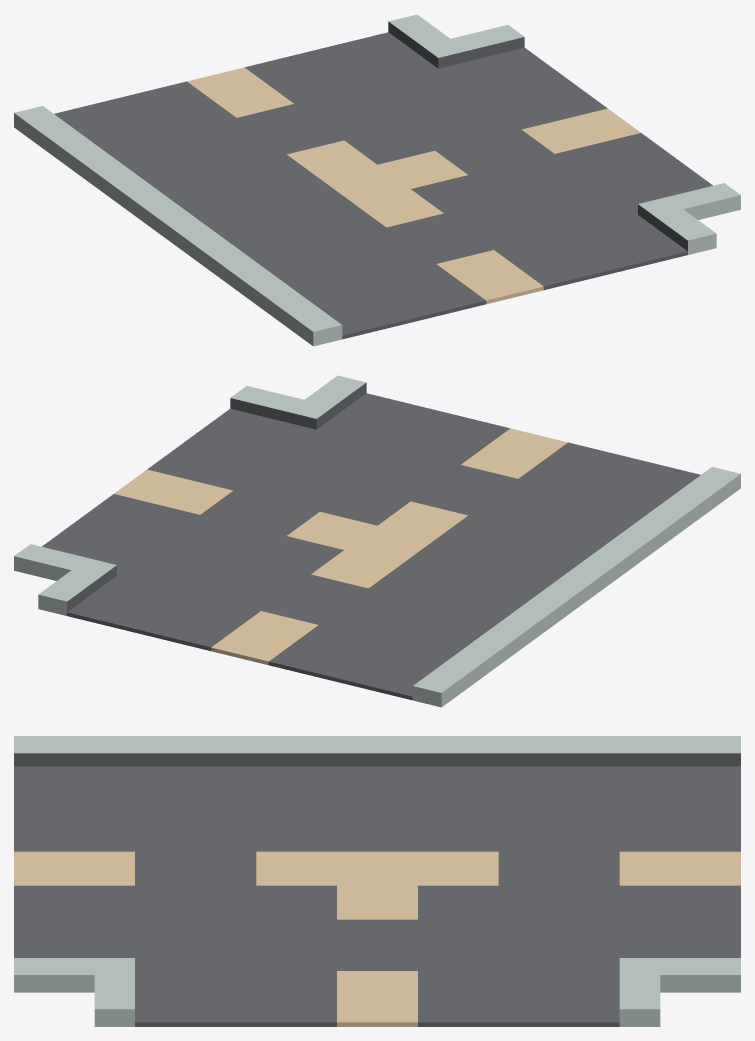
Rendered from T_Road.fbx.
3 renders of one model, top to bottom at view 1: azimuth 30°, elevation 25°; view 2: azimuth 150°, elevation 25°; view 3: azimuth 270°, elevation 25°, orthographic. The views are drawn at different scales.
Parts seen in each view (by area): view 1: T_Road; view 2: T_Road; view 3: T_Road.
Part boxes in pixels (left/top/right/bottom): T_Road: left=14, top=14, right=740, bottom=346; T_Road: left=14, top=375, right=740, bottom=707; T_Road: left=14, top=736, right=740, bottom=1026.
Size of the model in its own units: 8 by 0.241 by 9.
